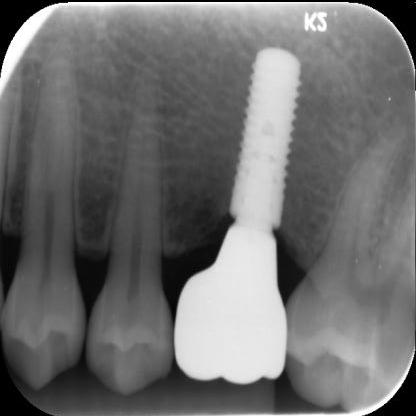ITI: (230, 38, 304, 222)
